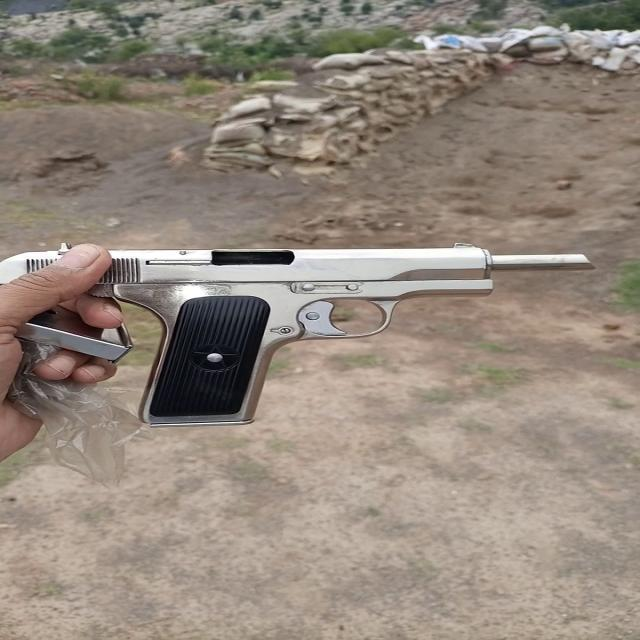Handgun: (0, 240, 598, 431)
